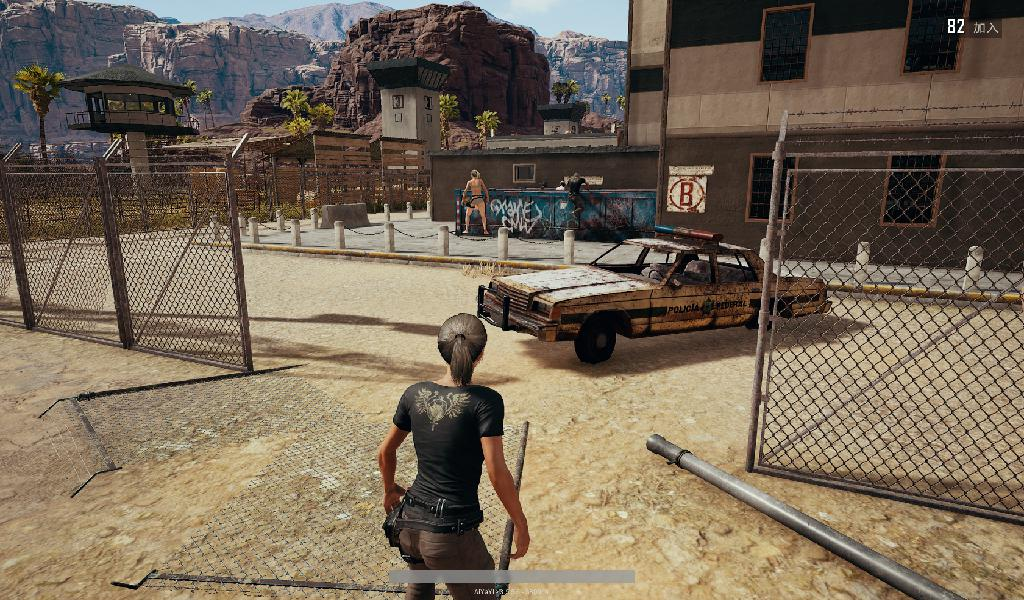Target Person: (377, 312, 531, 600), (459, 167, 494, 238), (561, 171, 591, 233)
